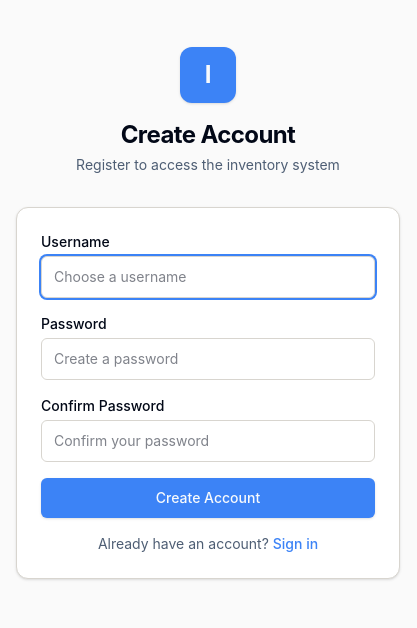
Register › shows error when passwords do not match
The width and height of the screenshot is (417, 628).
Type "testuser" into the field labelled "Username" at coordinates (208, 277), box [41,256,375,298]
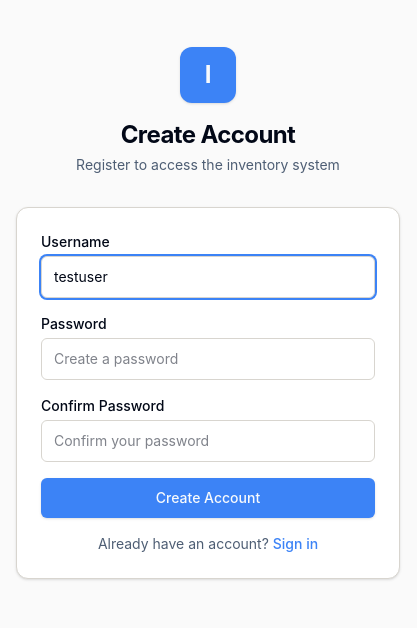
Type "pass1234" into the password field labelled "Password" at coordinates (208, 359), box [41,338,375,380]
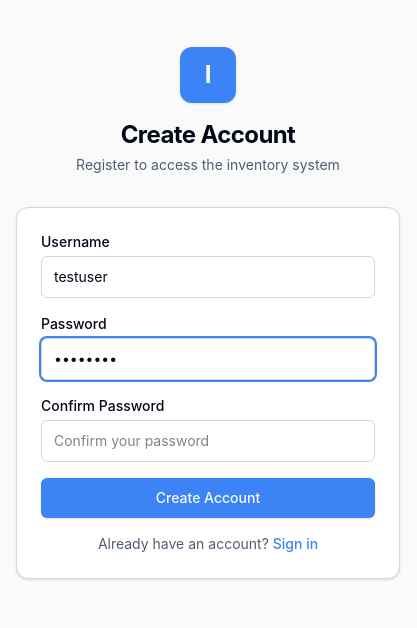
Type "diffpass" into the password field labelled "Confirm Password" at coordinates (208, 441), box [41,420,375,462]
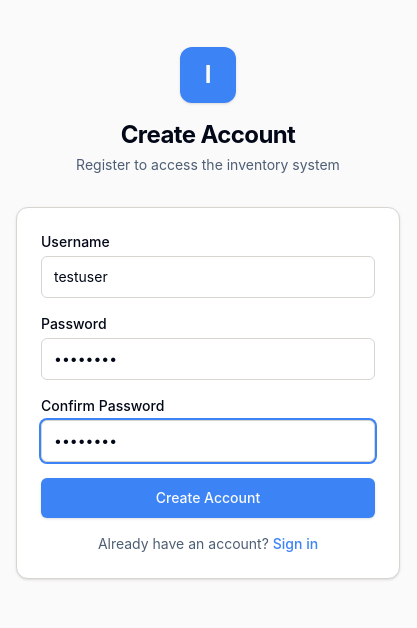
Click the button "Create Account" at coordinates (208, 498), box [41,478,375,518]
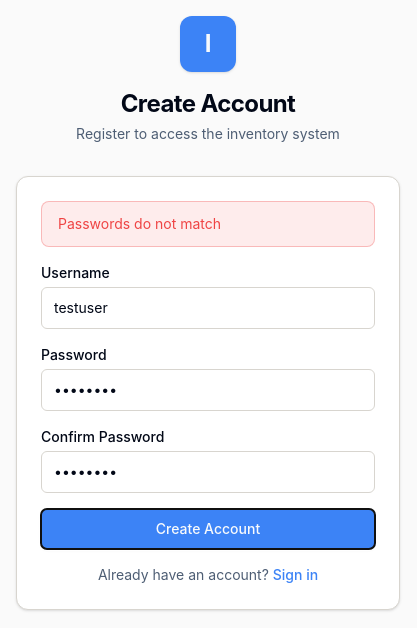
Expected: the text "Passwords do not match" is shown, [41,201,375,247]
